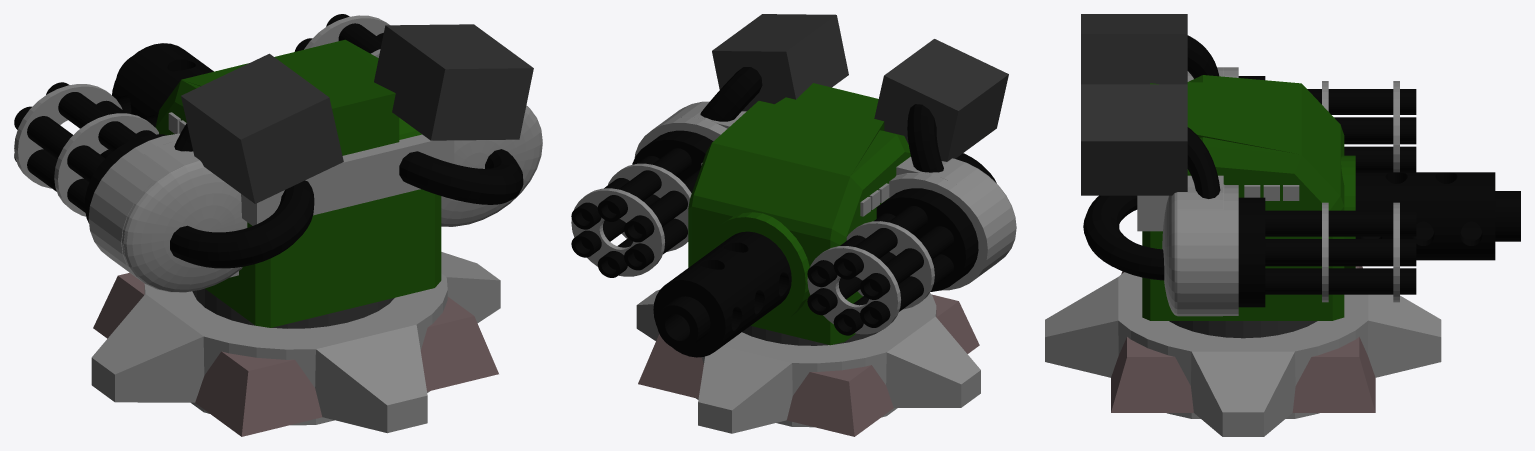
The model's file is WeaponGatlingGunM3.fbx.
The picture shows the model from 3 angles, left to right: view 1: azimuth 30°, elevation 25°; view 2: azimuth 150°, elevation 25°; view 3: azimuth 270°, elevation 25°; orthographic projection. The views are drawn at different scales.
Visible parts, largest first — view 1: Cylinder.001, Cylinder; view 2: Cylinder.001, Cylinder; view 3: Cylinder.001, Cylinder.
Boxes of the visible parts, x1=… form: Cylinder.001: x1=14, y1=14, x2=542, y2=328; Cylinder: x1=91, y1=252, x2=500, y2=436; Cylinder.001: x1=571, y1=14, x2=1016, y2=357; Cylinder: x1=636, y1=289, x2=980, y2=436; Cylinder.001: x1=1081, y1=14, x2=1520, y2=338; Cylinder: x1=1045, y1=266, x2=1441, y2=436.
Bounding box in the file's own units: 805 × 631 × 886.
